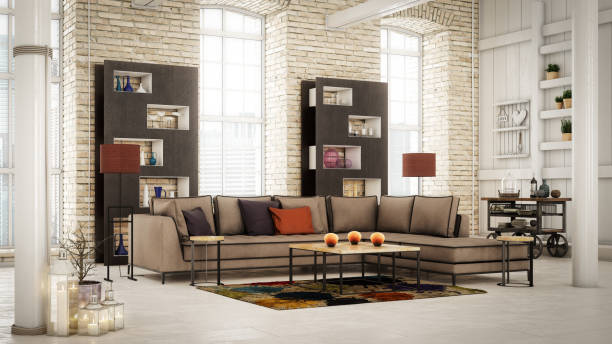floor lamp: (98, 141, 140, 276), (401, 150, 438, 194)
side table: (495, 232, 536, 289), (188, 233, 224, 289)
small plant: (543, 63, 561, 79), (560, 118, 572, 140), (551, 94, 562, 109), (563, 89, 571, 107)
sofa: (124, 192, 535, 289)
table: (286, 234, 423, 295)
